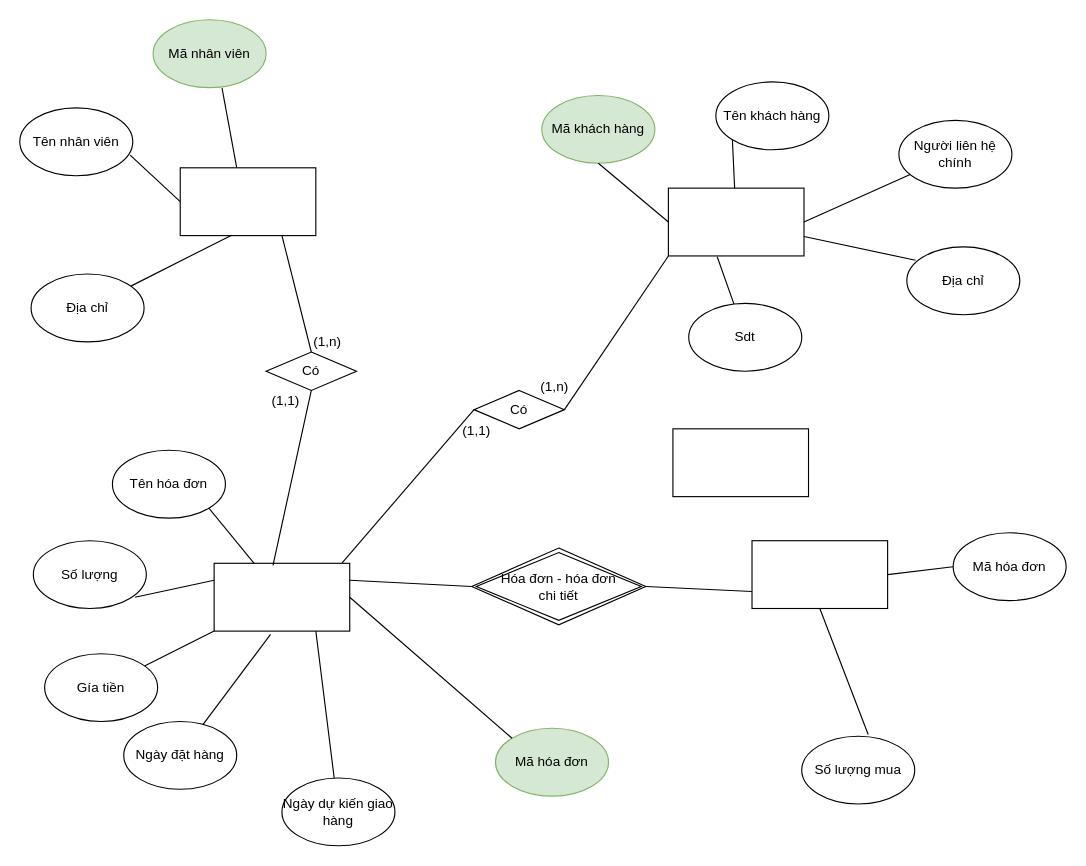
Some shapes in this 1086 by 866 pixel diagram are drawn without their labels. Each missing label, with the box of its shape:
Hàng: (672, 428, 809, 497)
Hóa đơn chi tiết: (751, 540, 888, 609)
Khách hàng: (667, 187, 804, 256)
Nhân viên: (179, 167, 316, 236)
Đơn hàng: (213, 562, 350, 631)
